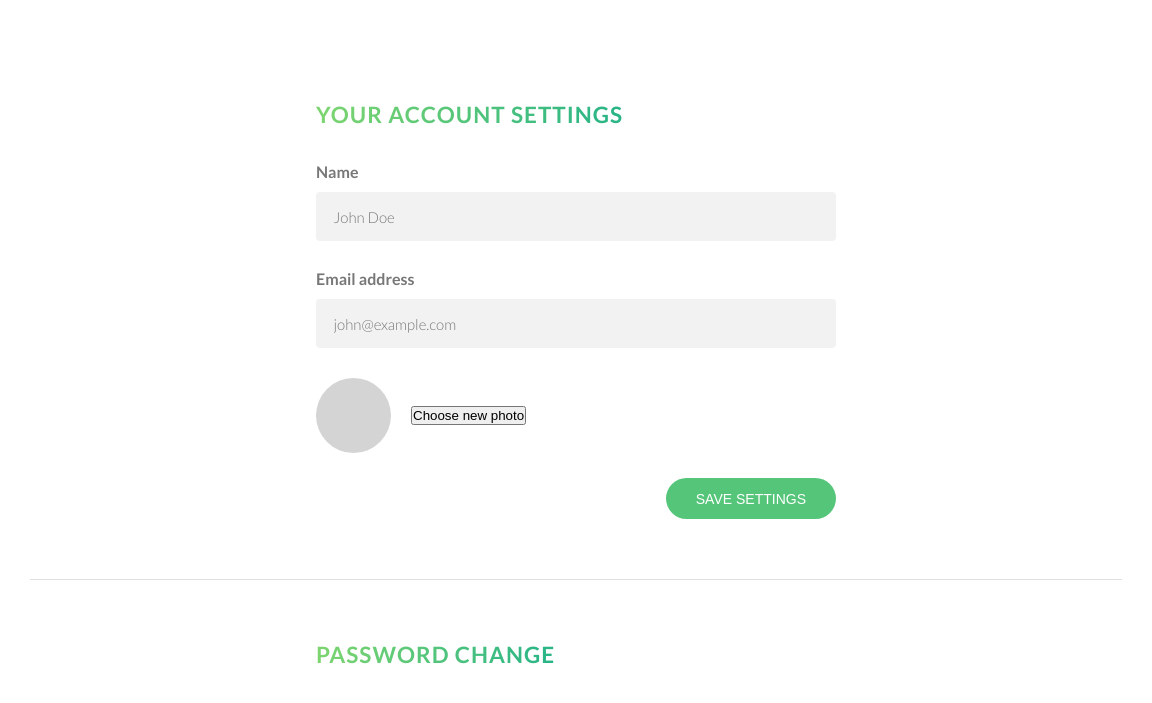
Test: AccountForm › should validate required fields
The image size is (1152, 703).
# Clear the name field
Clear the field labelled "Name" at (576,217), box [316, 192, 836, 241]
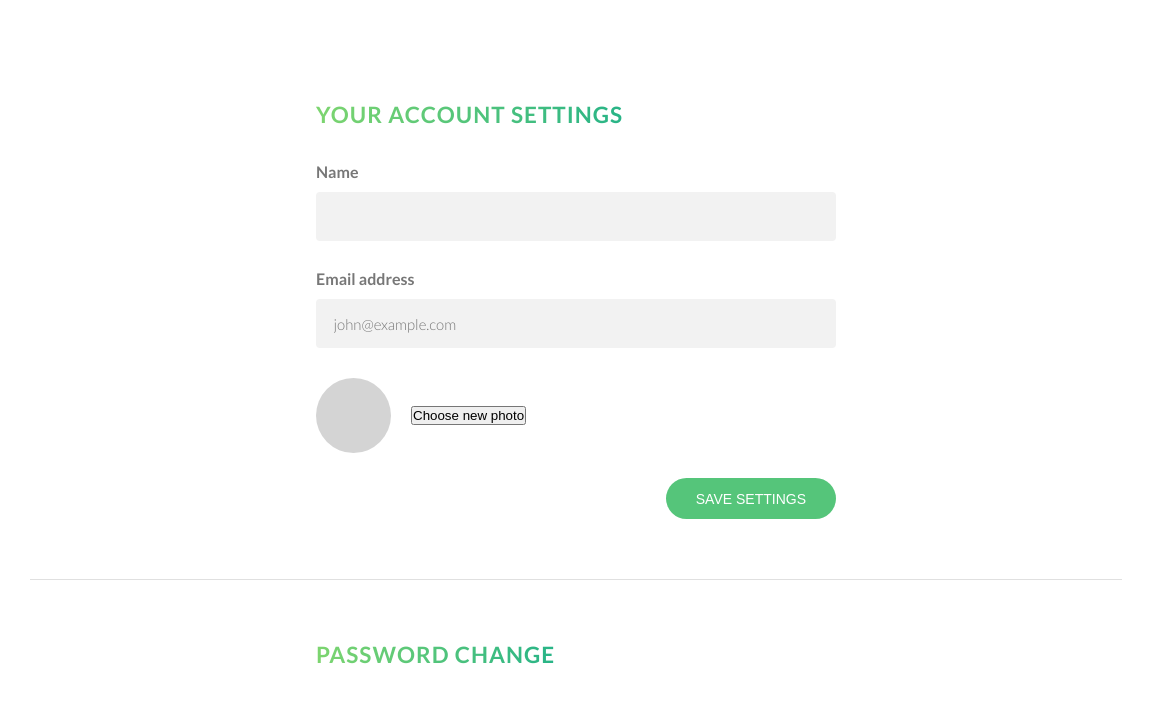
# Submit the form
Submit the text "Save settings", box [316, 159, 836, 520]
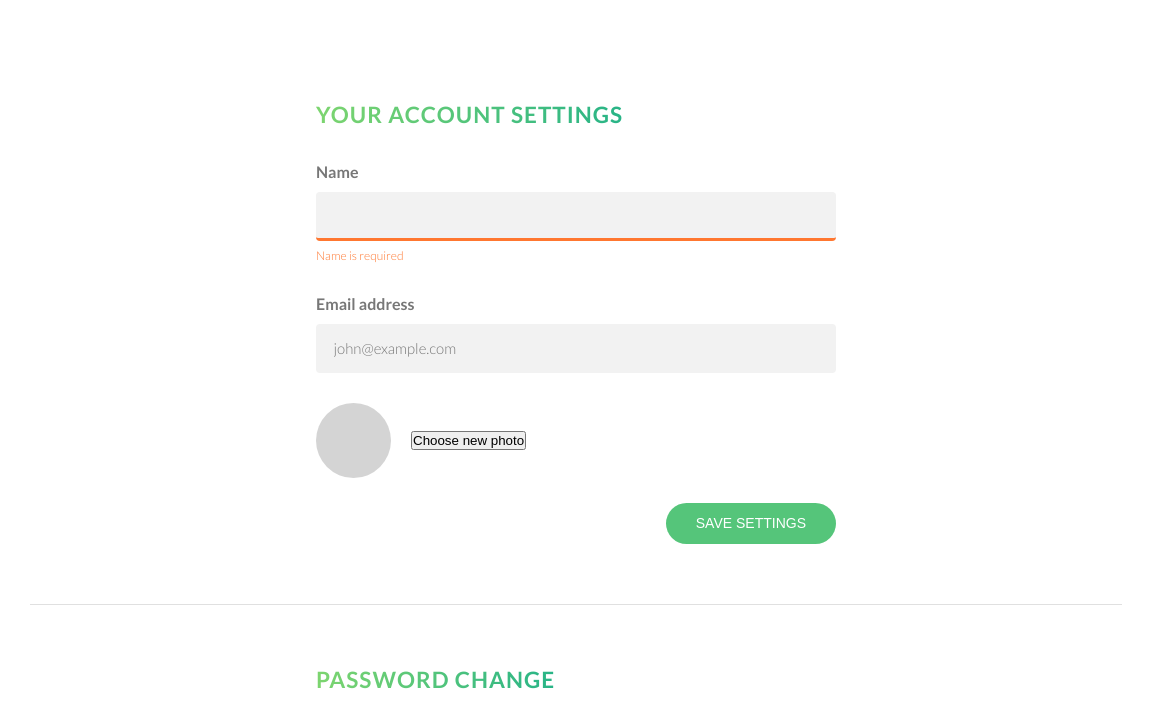
Now the text "Name is required" is shown, box [316, 248, 404, 263]
